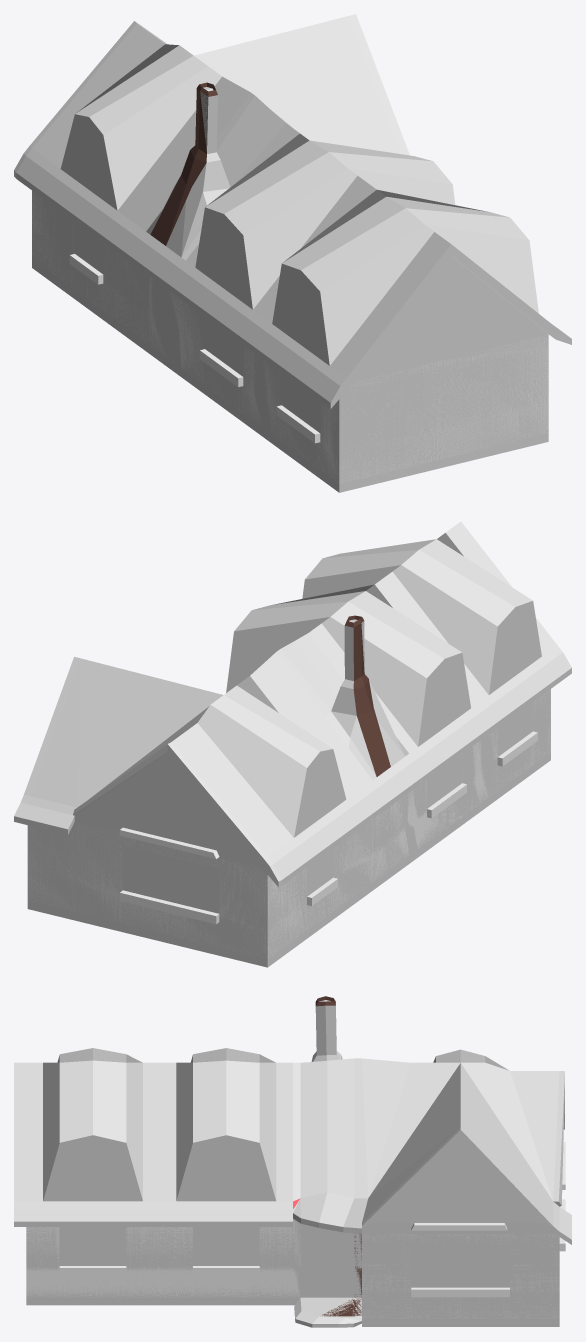
Rendered from m_House2.fbx.
3 renders of one model, top to bottom at view 1: azimuth 30°, elevation 25°; view 2: azimuth 150°, elevation 25°; view 3: azimuth 270°, elevation 25°, orthographic. The views are drawn at different scales.
Parts seen in each view (by area): view 1: M_House2, M_House2.001; view 2: M_House2, M_House2.001; view 3: M_House2, M_House2.001.
Part boxes in pixels (x1,y1,x2,y2): M_House2: (14,14,571,492); M_House2.001: (32,82,548,483); M_House2: (14,521,571,967); M_House2.001: (27,615,550,958); M_House2: (14,1000,571,1327); M_House2.001: (26,996,565,1319).
Size of the model in its own units: 600 by 548 by 1178.
